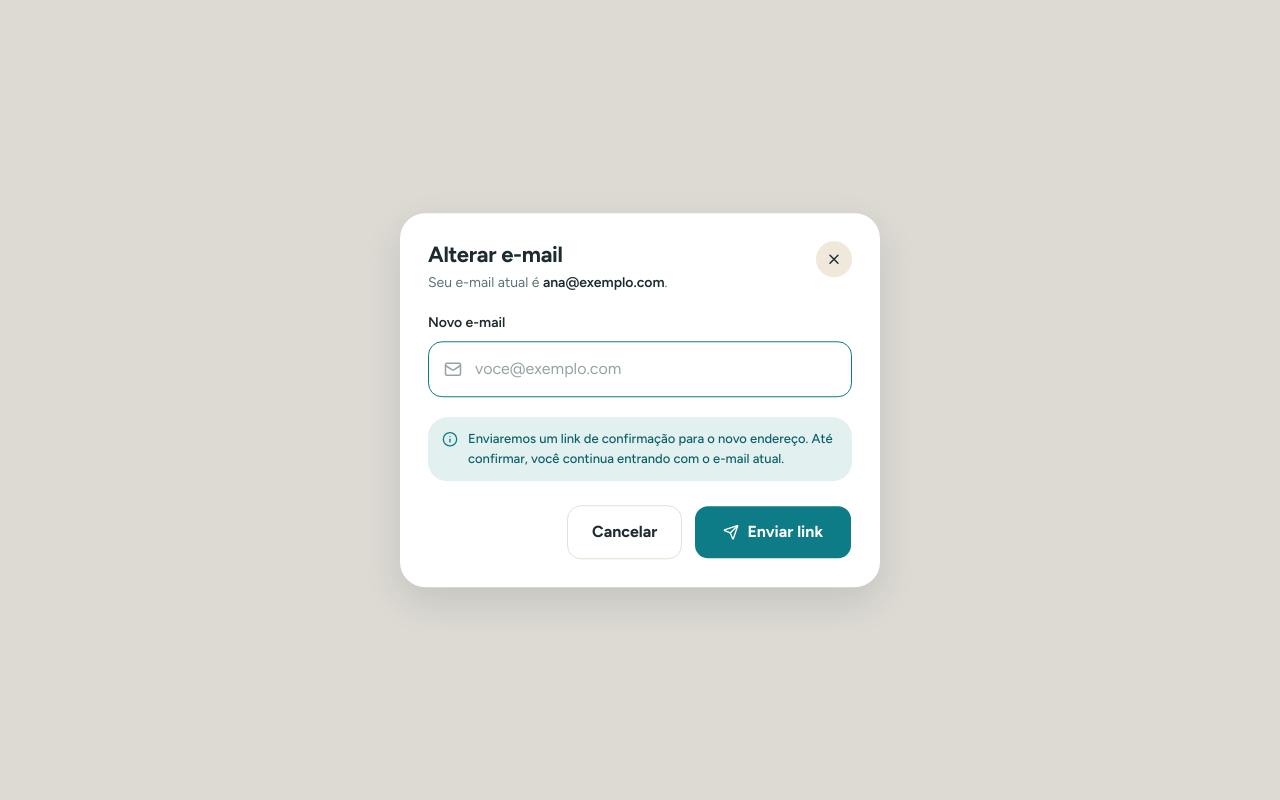
Test: ChangeEmailDialog › validates
Click the button "Enviar link": (773, 532) [694, 505, 852, 559]
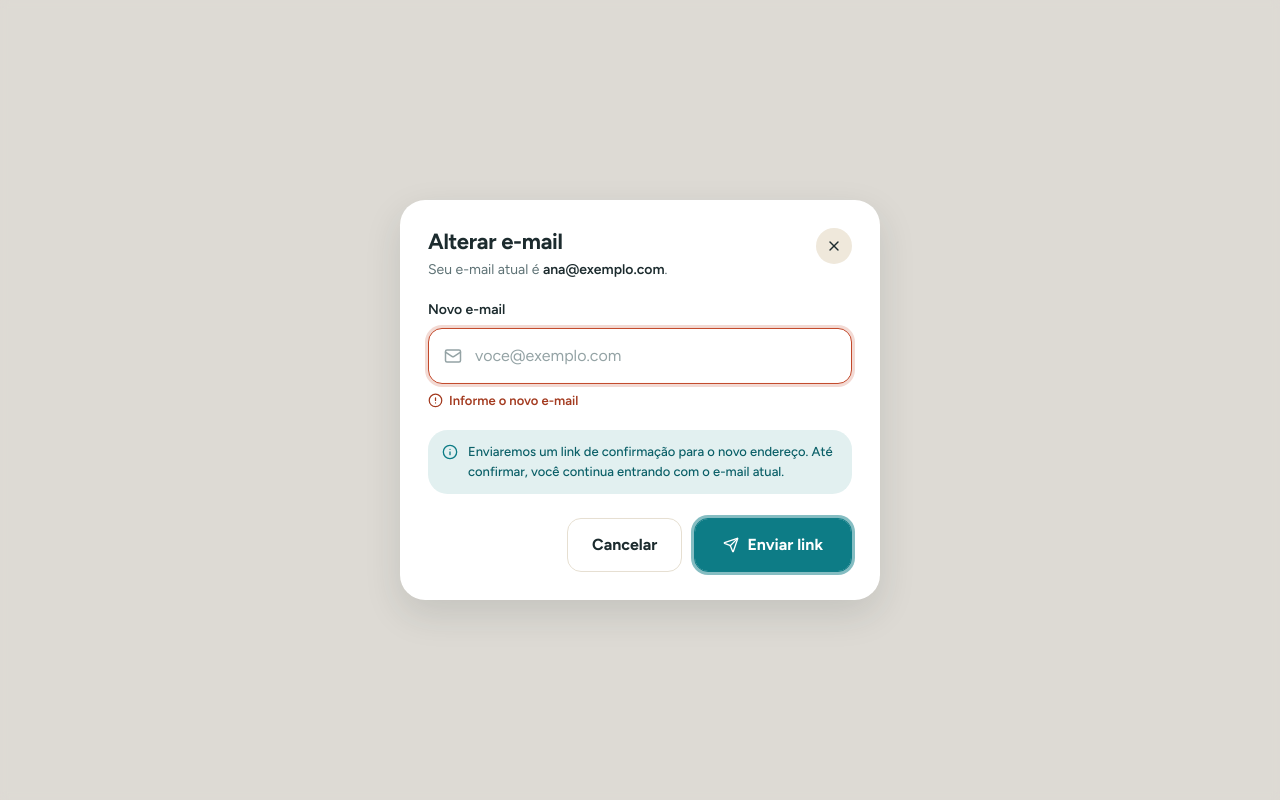
Now the text "Informe o novo e-mail" is shown, box [428, 392, 578, 408]
